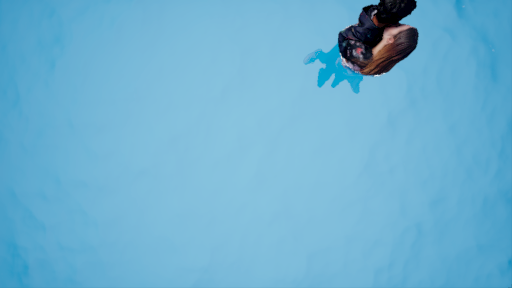person: (320, 7, 425, 96)
